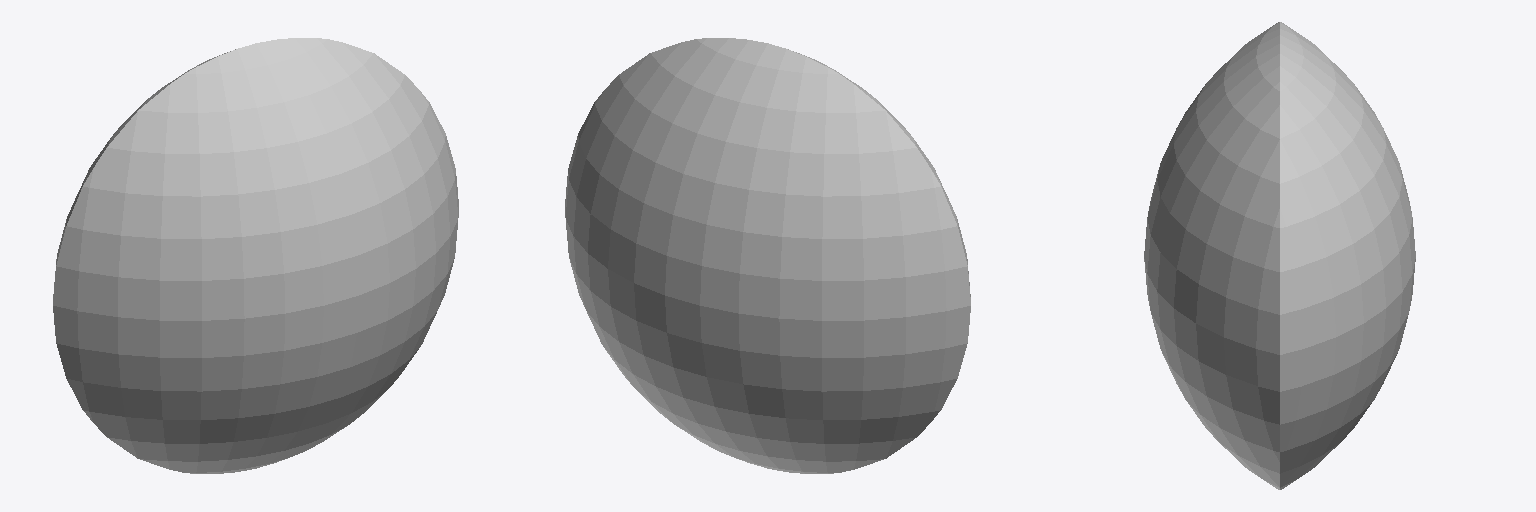
The model's file is Lens 2x1m.obj.
3 views of the same model, side by side, from view 1: azimuth 30°, elevation 25°; view 2: azimuth 150°, elevation 25°; view 3: azimuth 270°, elevation 25° (orthographic).
Size of the model in its own units: 1.73 by 1.73 by 1.